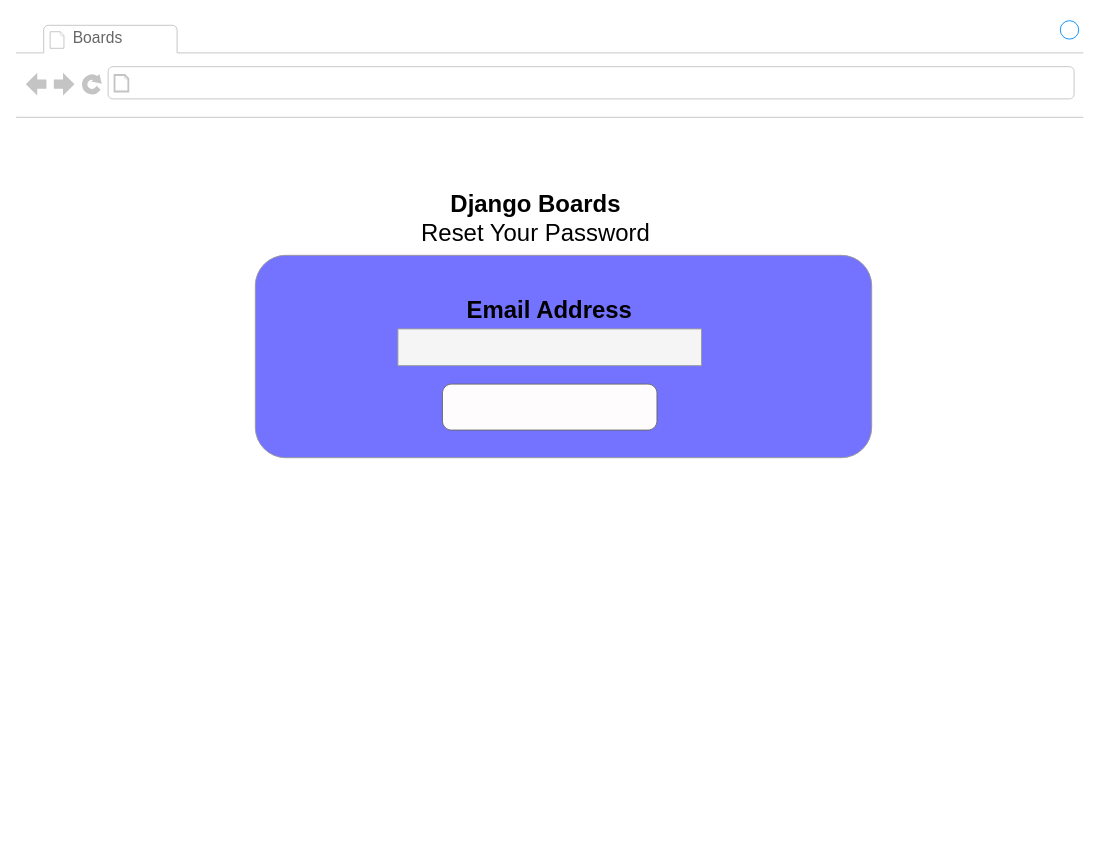
This 1099x842 diagram has some shape labels left out. Here are the shapes that lost their labels. From the top down, the centre of each, then its label:
At [250,82]: "https://www.example.com".
At [549,406]: "Send password reset email".
